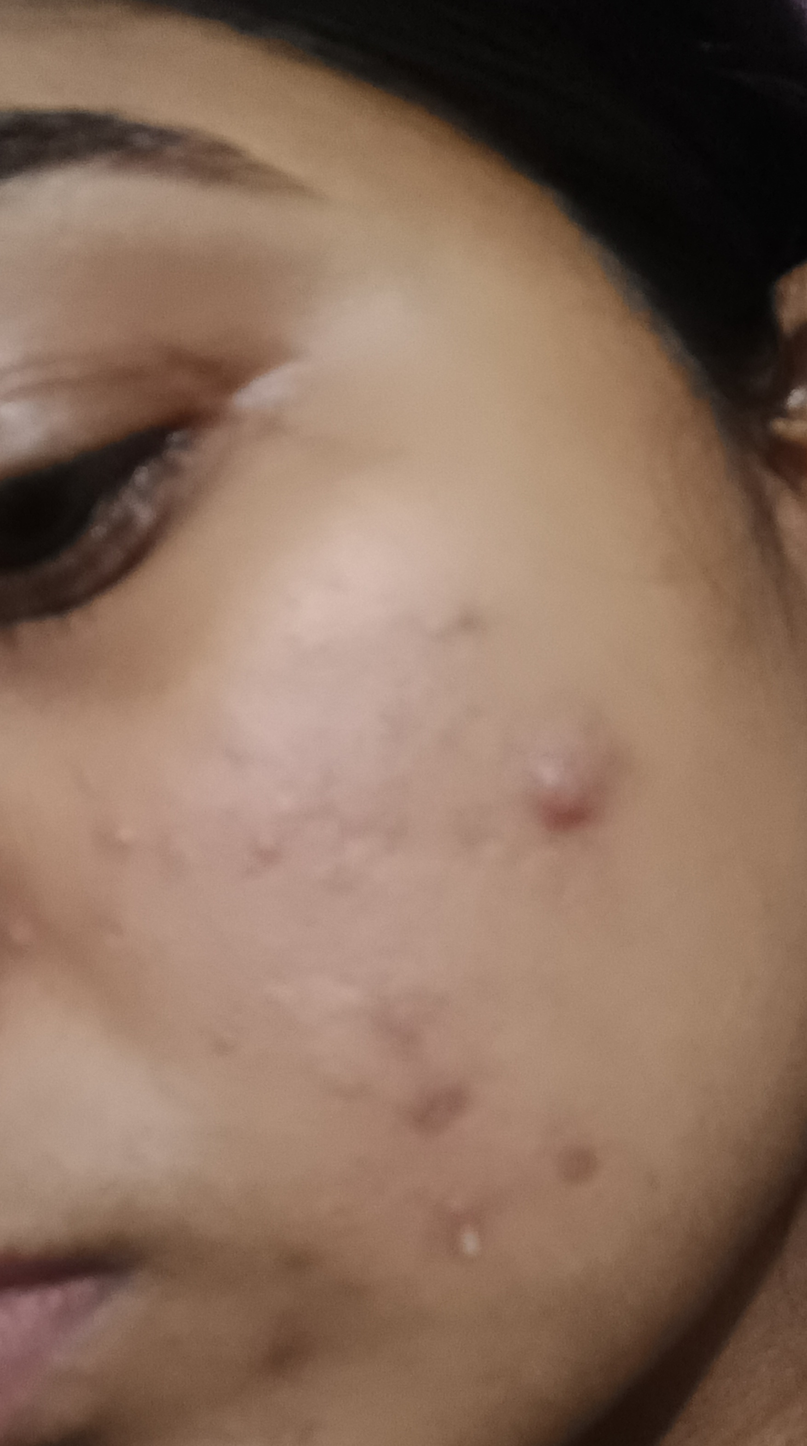cyst: (520, 741, 625, 860)
papule: (234, 1290, 334, 1385), (227, 812, 318, 913), (74, 803, 167, 872), (358, 991, 446, 1063)
